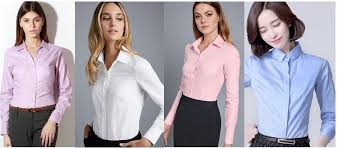F_shirt: (164, 33, 243, 143), (244, 47, 337, 137), (85, 47, 167, 141), (2, 38, 72, 130)
F_tailored skirt: (166, 91, 225, 149)
